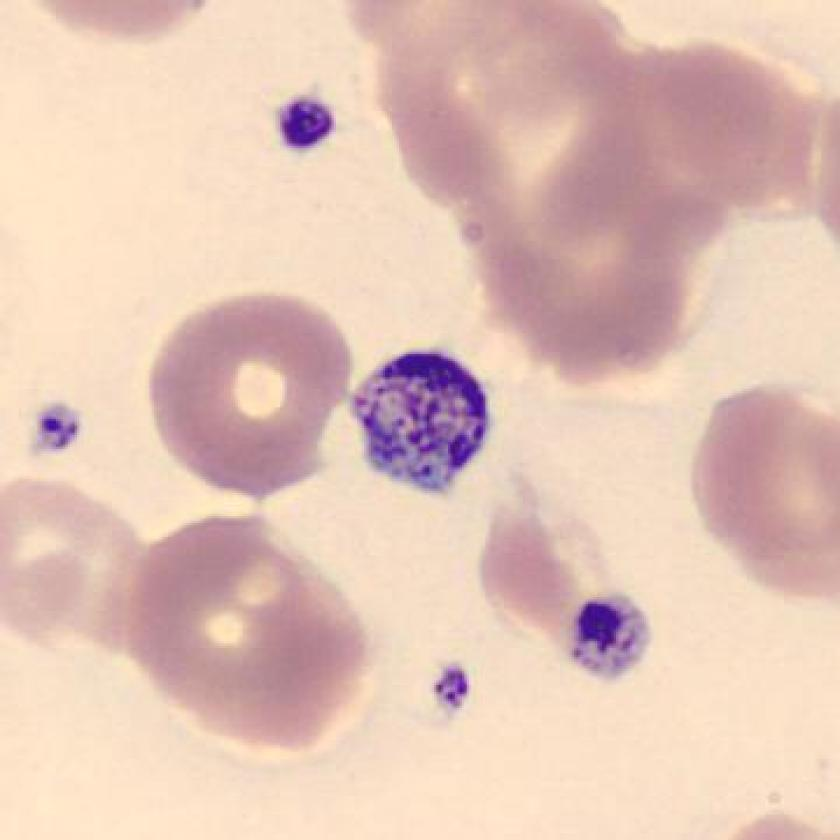platelets: (349, 346, 498, 501), (568, 593, 650, 686), (267, 87, 346, 158), (25, 395, 95, 469), (428, 656, 486, 727)
